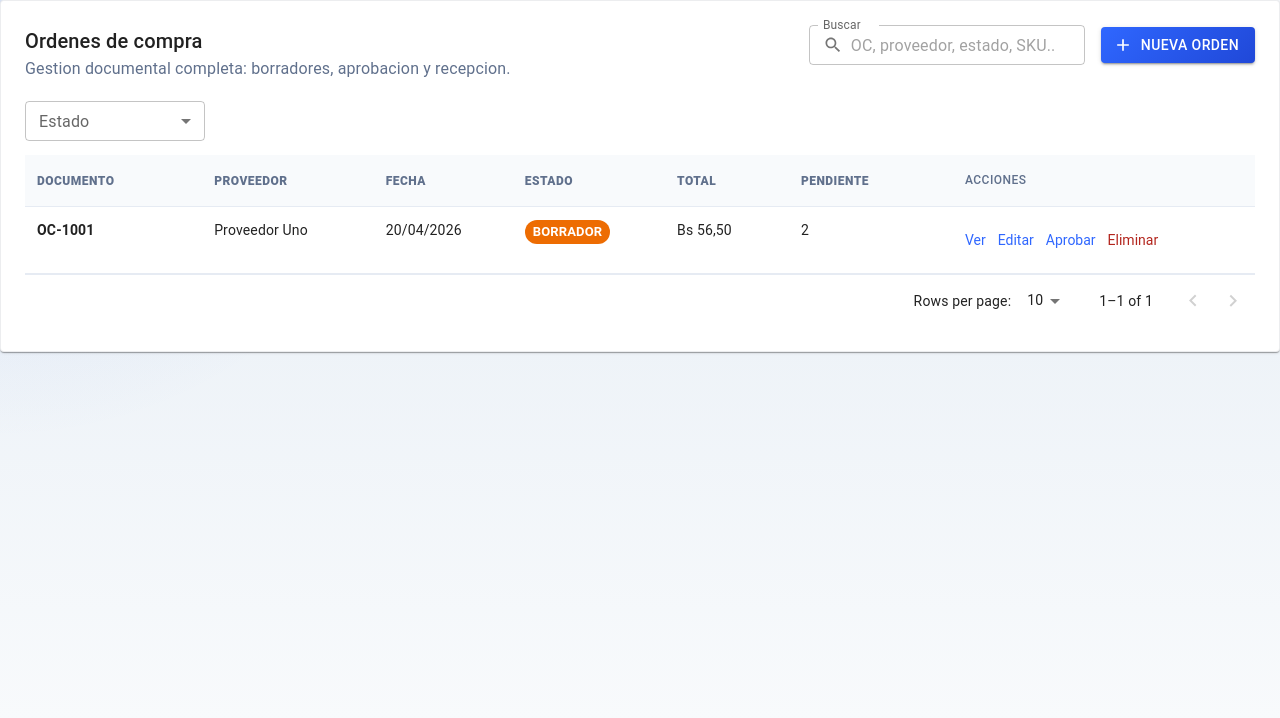
it: OrdenesScreen UI › aprueba una orden borrador
Click the button "Aprobar" at (1071, 240), box [1046,220,1096,260]
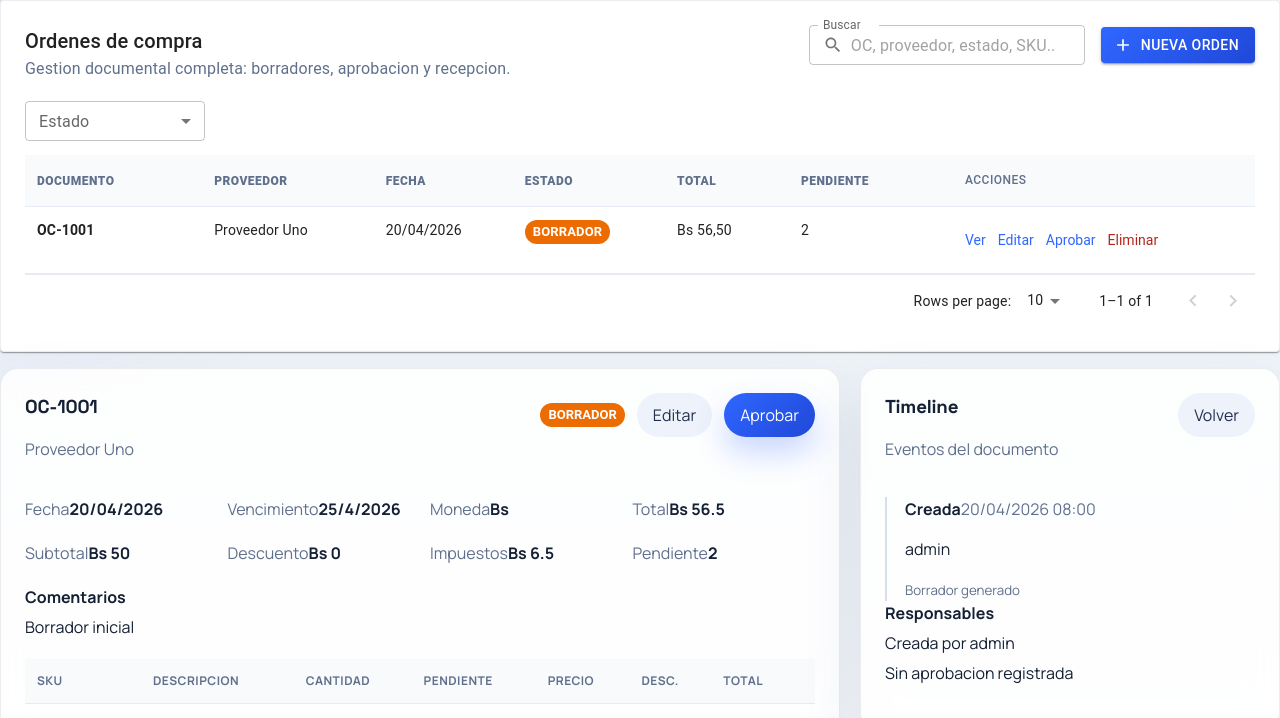
Check: the heading "Timeline" is shown, box [885,395,958,418]
